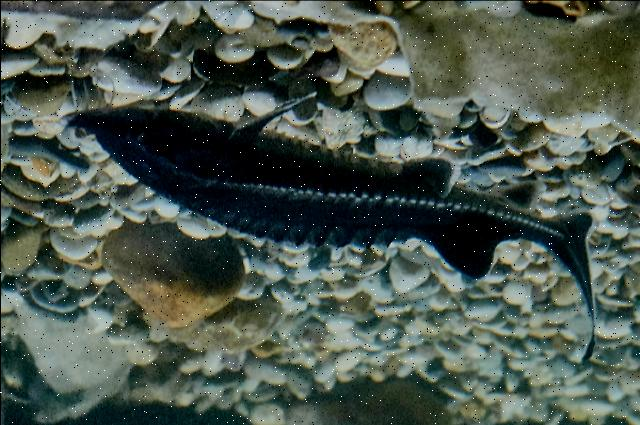Sirip Anal: (494, 173, 550, 215)
Sirip Dada: (226, 78, 324, 142)
Sirip Ekor: (544, 186, 616, 374)
Sirip Perut: (400, 138, 470, 196)
Sirip Punggung: (429, 227, 505, 287)
